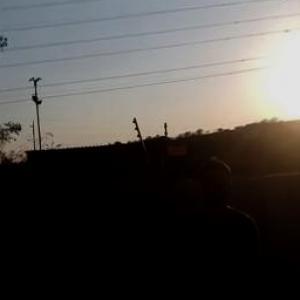follow: (171, 155, 268, 299)
